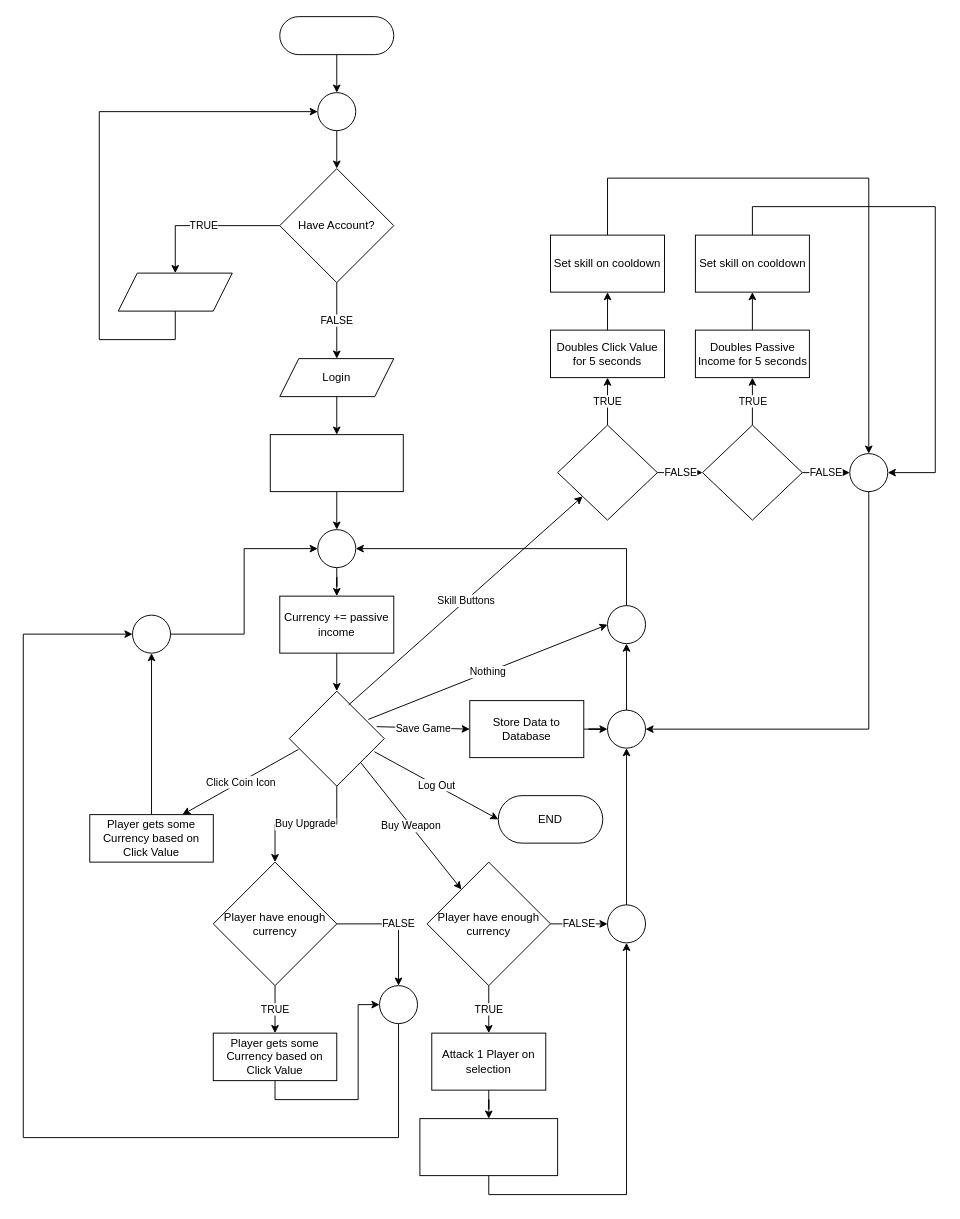
This 960x1219 diagram has some shape labels left out. Each missing label, with the centre of its shape:
Decrease Selected Player's Level/Income: point (488, 1147)
Fetch User Data (Currency, Upgrade Levels, etc): point (336, 463)
Player Input: point (336, 738)
Register: point (174, 291)
Skill 1 Pressed: point (607, 472)
Skill 2 Pressed: point (752, 472)
START: point (336, 35)
